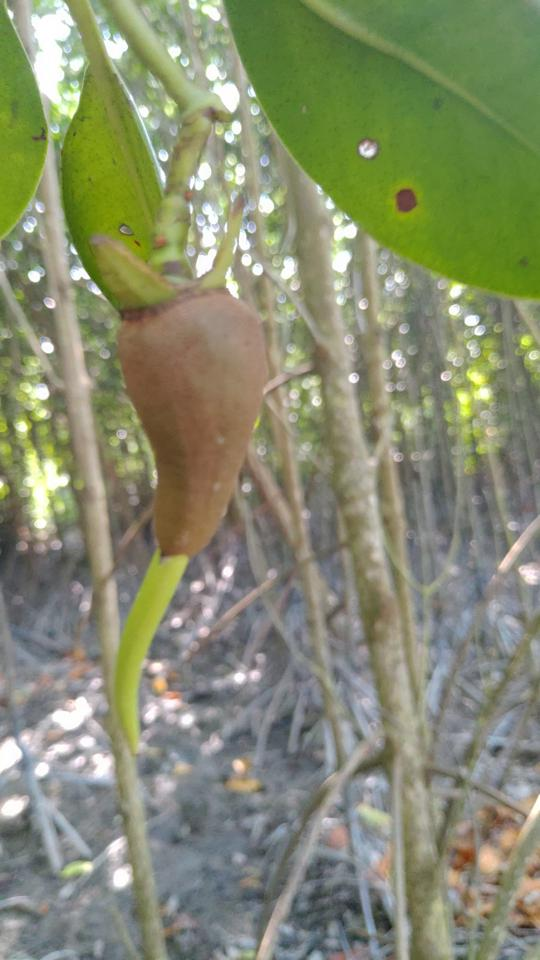mentah: (87, 260, 280, 774)
